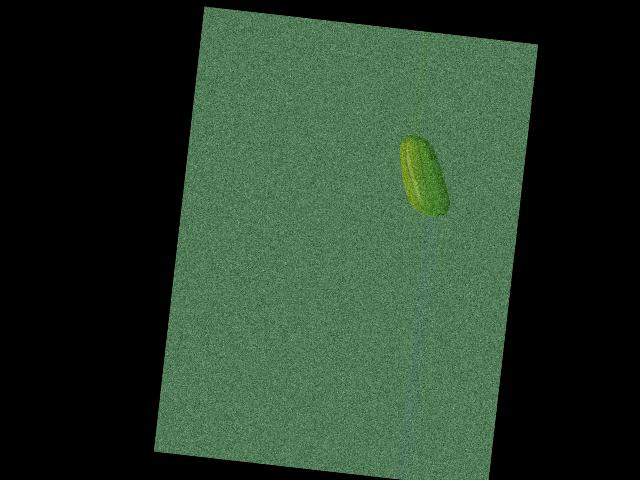cucumber: (393, 134, 457, 218)
